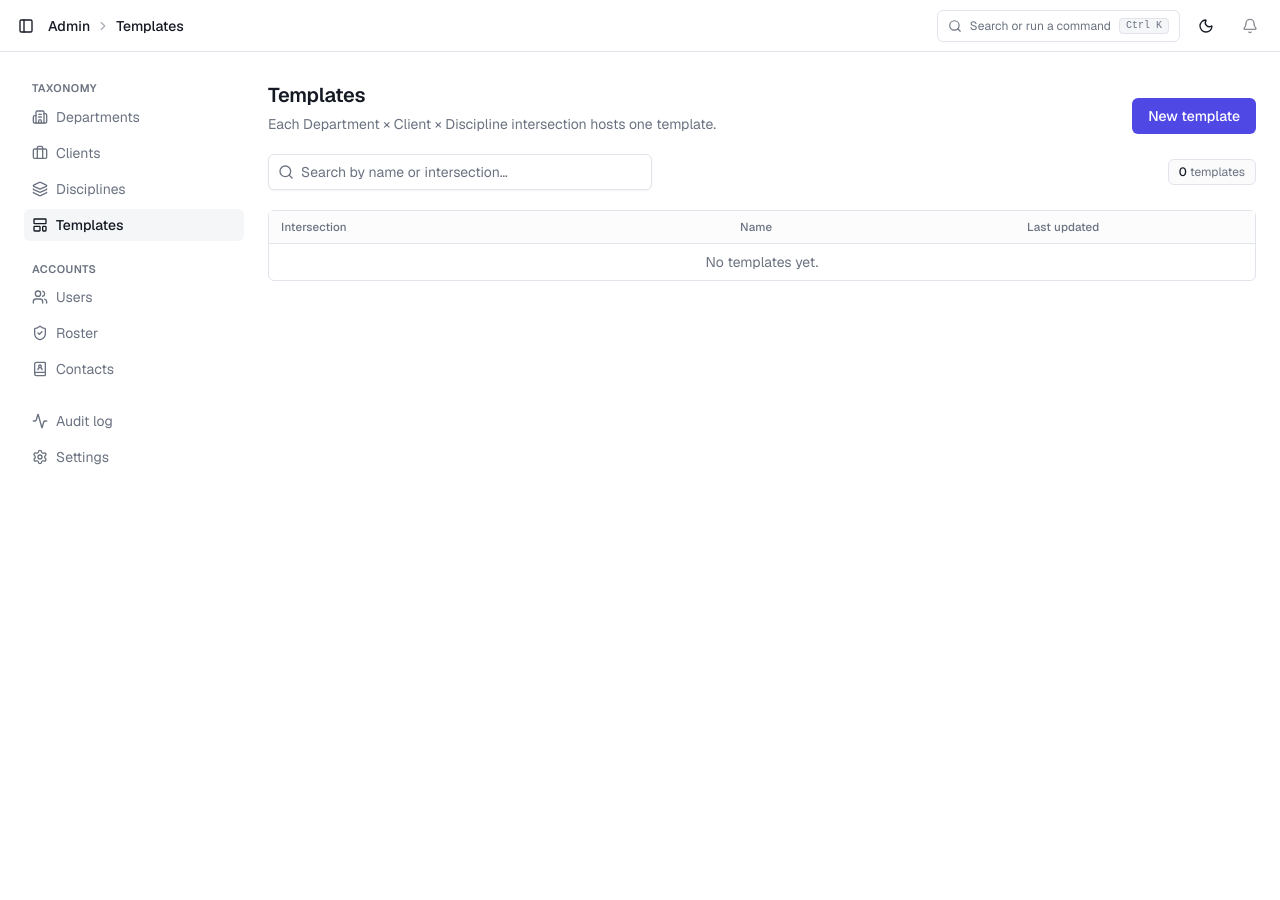
Test: TemplatesListPage › opens the create sheet with name + three taxonomy selects
Check: the text "No templates yet." is shown, box [269, 244, 1255, 280]
Click the button "New template".
click(1194, 116)  # box [1132, 98, 1256, 134]
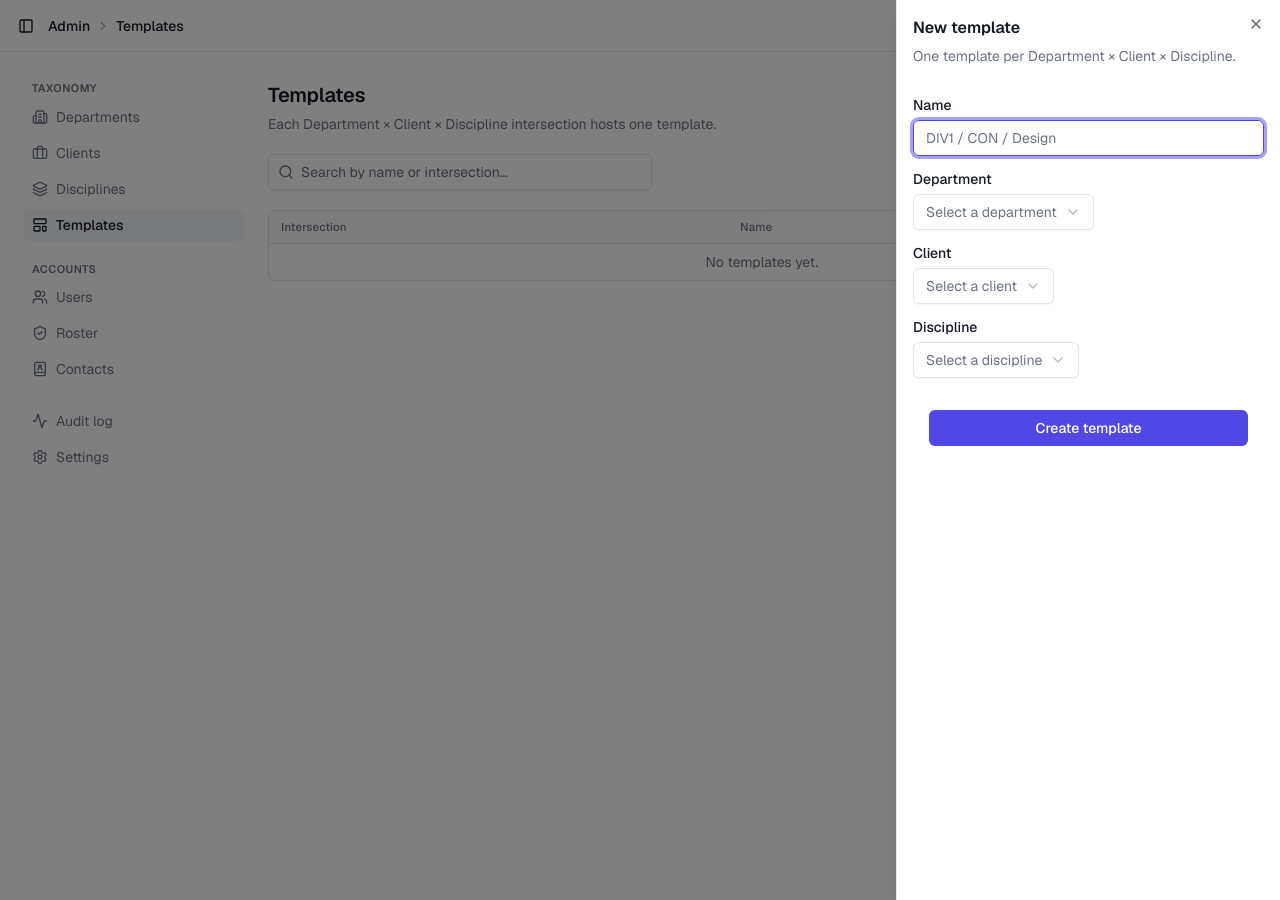
Check: the field labelled "Name" is shown, box [913, 120, 1264, 156]
Check: the dropdown labelled "Select a department" is shown, box [913, 194, 1094, 230]
Check: the dropdown labelled "Select a client" is shown, box [913, 268, 1054, 304]
